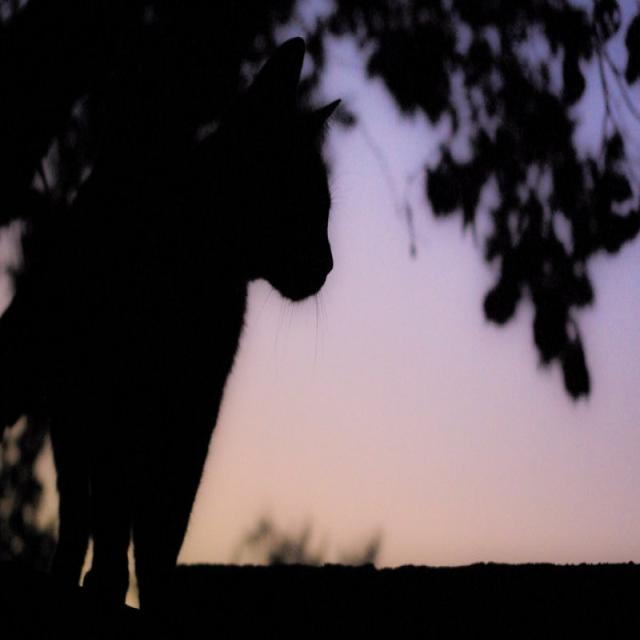Cat: (0, 18, 338, 633)
